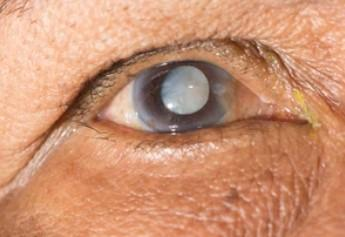eye: (132, 61, 235, 129)
